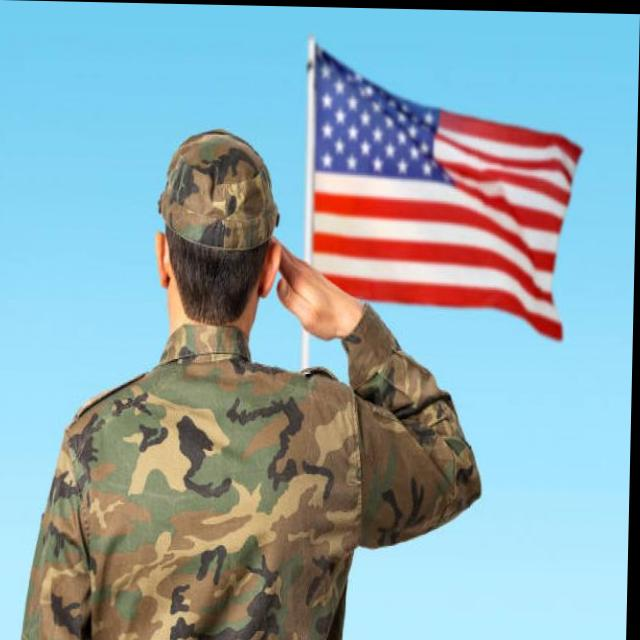no helmet: (132, 116, 297, 368)
